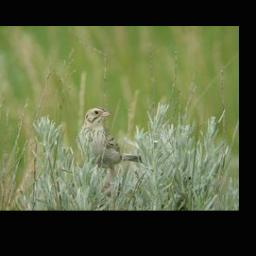Sparrow: (73, 103, 146, 195)
